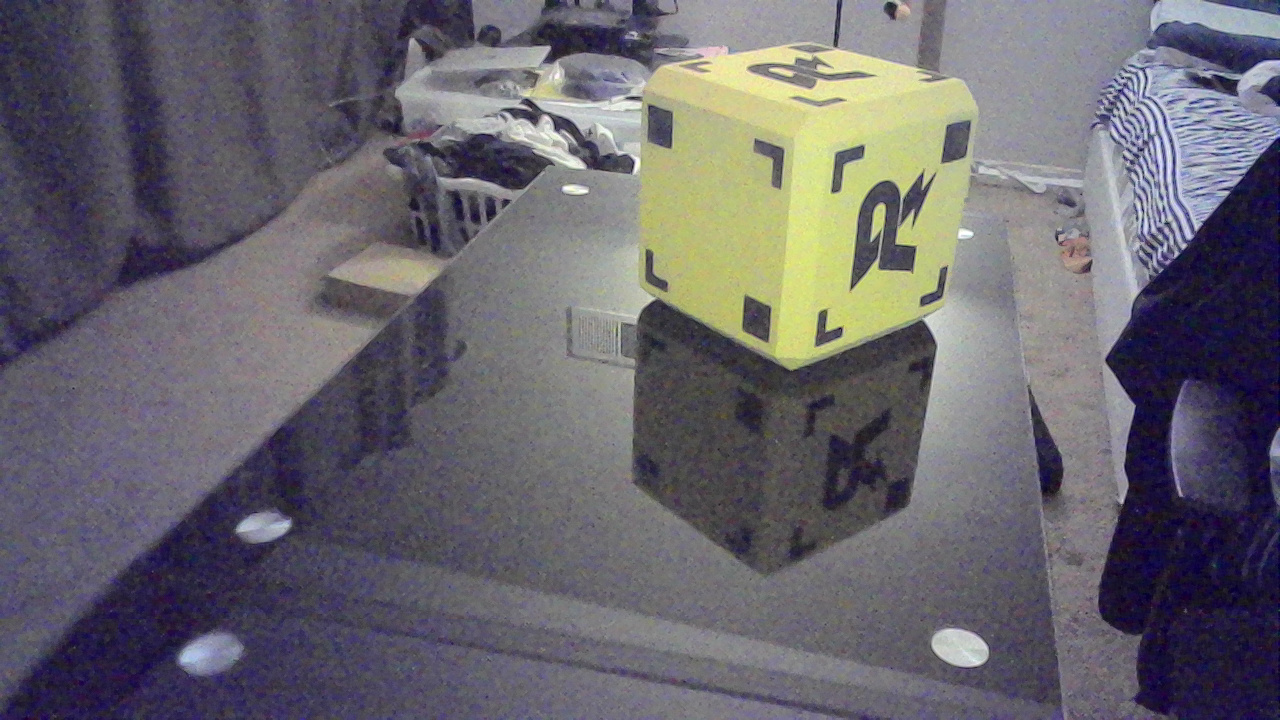R: (852, 183, 943, 287), (755, 53, 883, 97)
